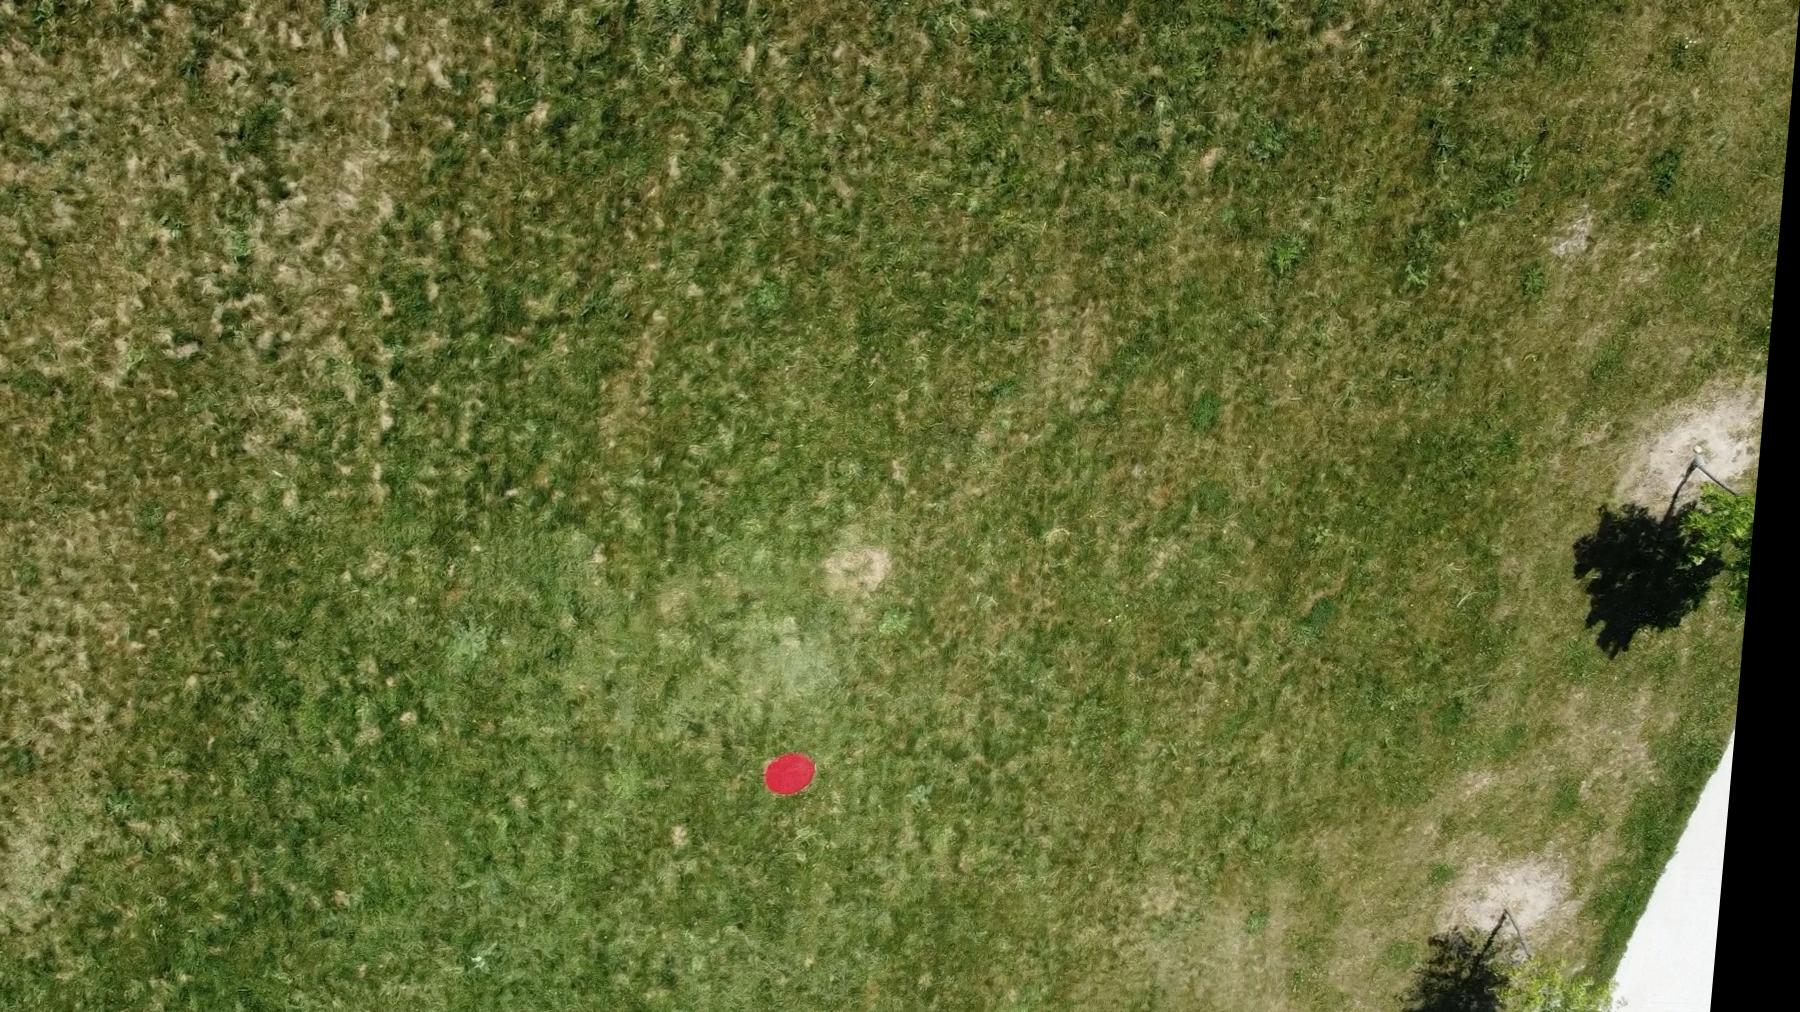Red: (775, 750, 833, 797)
